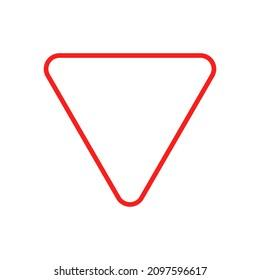Give Way: (35, 45, 232, 212)
